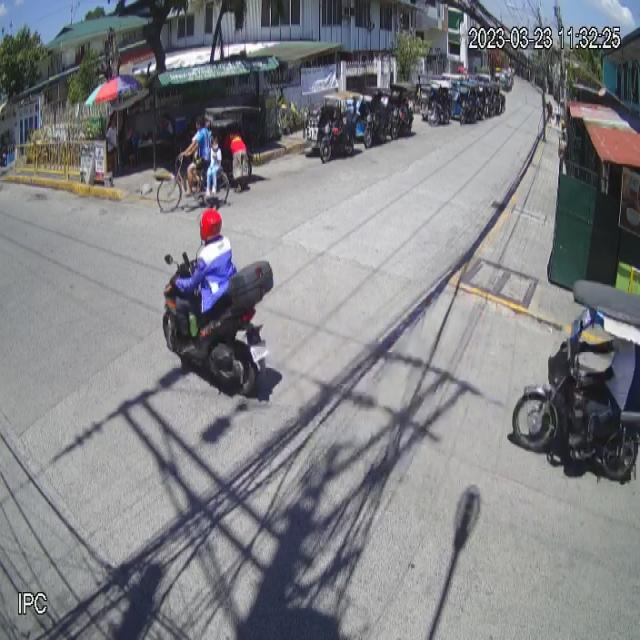Motorcycle: (160, 248, 274, 394)
Tricycle: (511, 278, 640, 484)
